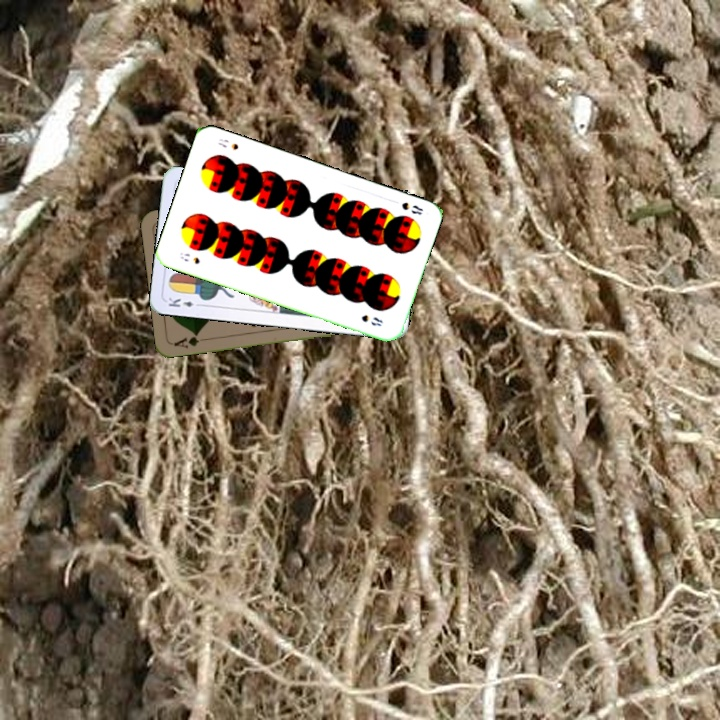EK: (164, 294, 205, 310)
GA: (170, 330, 210, 351)
S8: (397, 198, 426, 217), (176, 248, 203, 267)
